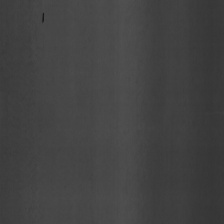inclusion: (40, 7, 45, 31)
